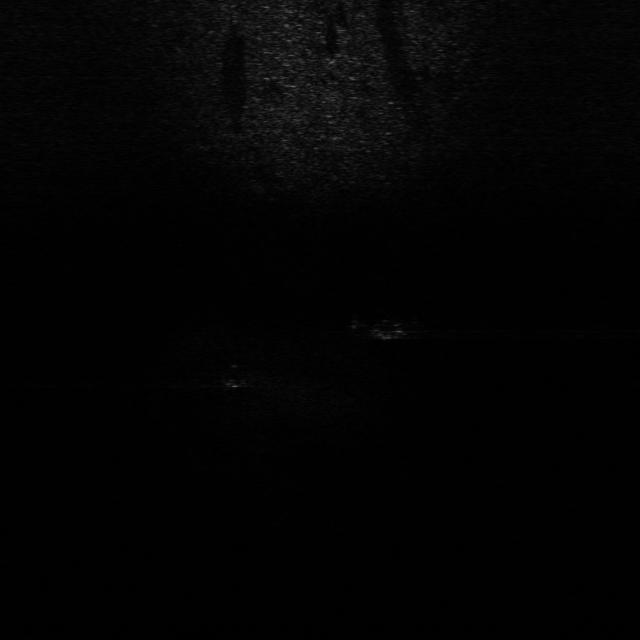ball: (217, 356, 261, 389)
human body: (344, 303, 440, 346)
